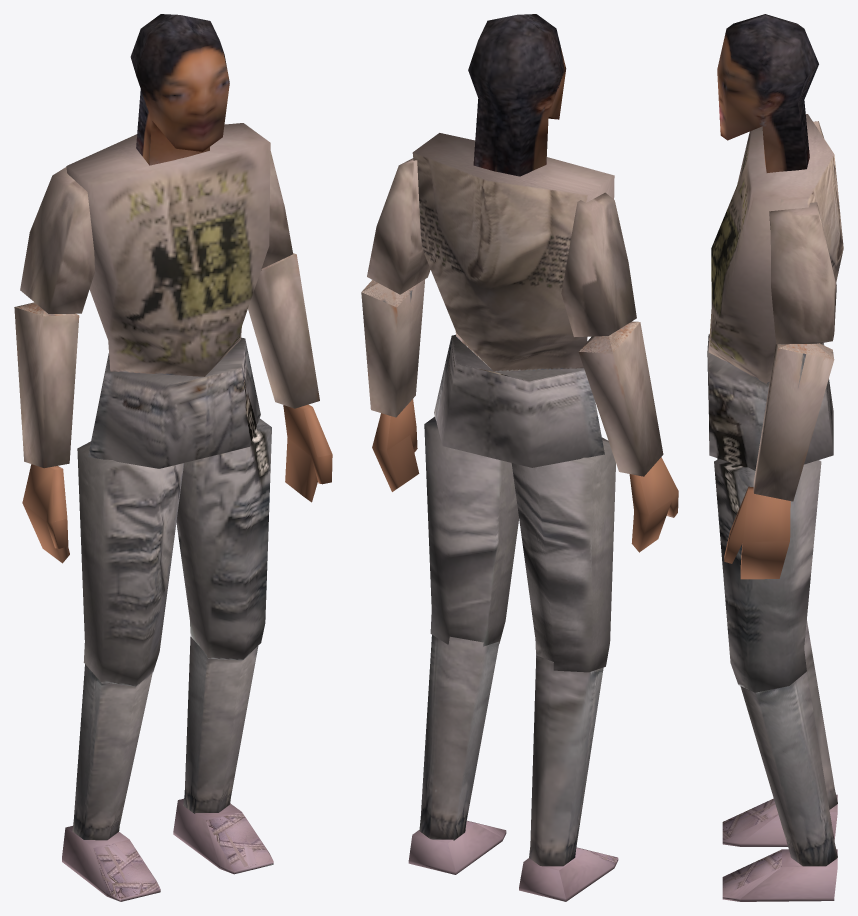
File: good beansss.fbx
The picture shows the model from 3 angles, left to right: view 1: azimuth 30°, elevation 25°; view 2: azimuth 150°, elevation 25°; view 3: azimuth 270°, elevation 25°; orthographic projection.
Parts seen in each view (by area): view 1: chest.002, top legs.002, lower legs.002, lower arms.002, waist.002, head.002, top arms.002, shoes.002, hands.002; view 2: top legs.002, chest.002, lower legs.002, waist.002, lower arms.002, top arms.002, head.002, shoes.002, hands.002; view 3: chest.002, top legs.002, head.002, lower legs.002, lower arms.002, top arms.002, shoes.002, waist.002, hands.002.
Boxes of the visible parts, x1,y1,x2,y2 form: chest.002: (66,123,270,376); top legs.002: (77,418,271,686); lower legs.002: (72,636,258,840); lower arms.002: (14,253,319,468); waist.002: (88,337,260,468); head.002: (130,14,229,165); top arms.002: (20,151,292,313); shoes.002: (62,798,273,901); hands.002: (22,404,332,563); top legs.002: (424,416,615,672); chest.002: (412,133,614,371); lower legs.002: (419,635,603,866); waist.002: (434,334,604,467); lower arms.002: (361,279,663,476); top arms.002: (367,158,636,336); head.002: (468,14,566,176); shoes.002: (408,820,618,901); hands.002: (372,399,678,552); chest.002: (708,114,843,383); top legs.002: (714,458,821,692); head.002: (717,14,818,172); lower legs.002: (740,620,837,866); lower arms.002: (753,343,834,501); top arms.002: (769,121,836,344); shoes.002: (722,794,837,901); waist.002: (707,334,833,470); hands.002: (724,486,790,579).
Bounding box in the file's own units: 143 × 414 × 60.36.
Materials: 1 (1 with a texture image).
